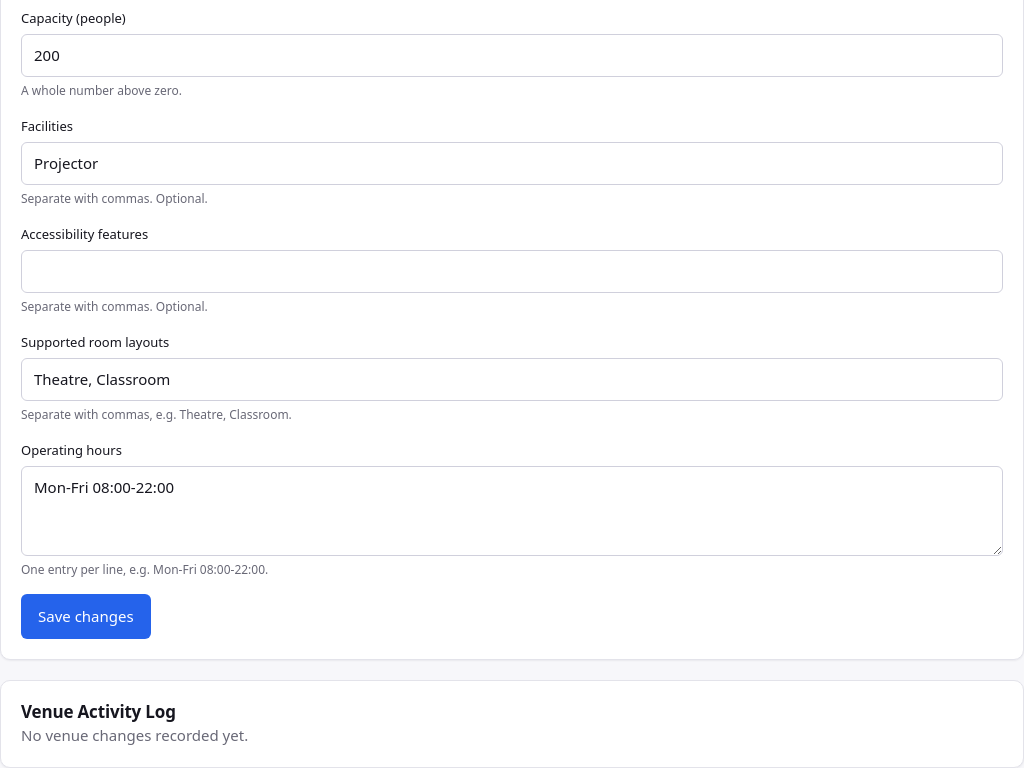
Test: Edit a venue › ac4 lists the bookings kept and flagged for review
The width and height of the screenshot is (1024, 768).
(page scrolled)
Click the button "Save changes" at [86, 617], box [21,594,151,640]
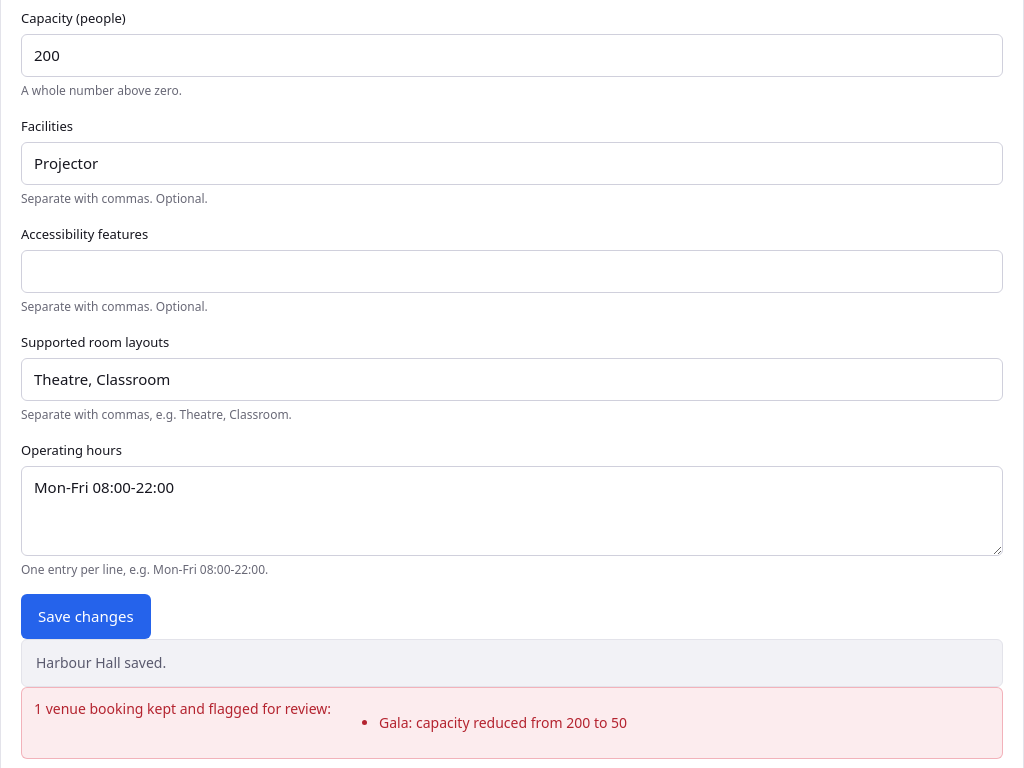
Expected: the text "1 venue booking kept and flagged for review:" is shown, [34,699,331,718]
Expected: the list item "Gala: capacity reduced from 200 to 50" is shown, [379,712,627,734]
